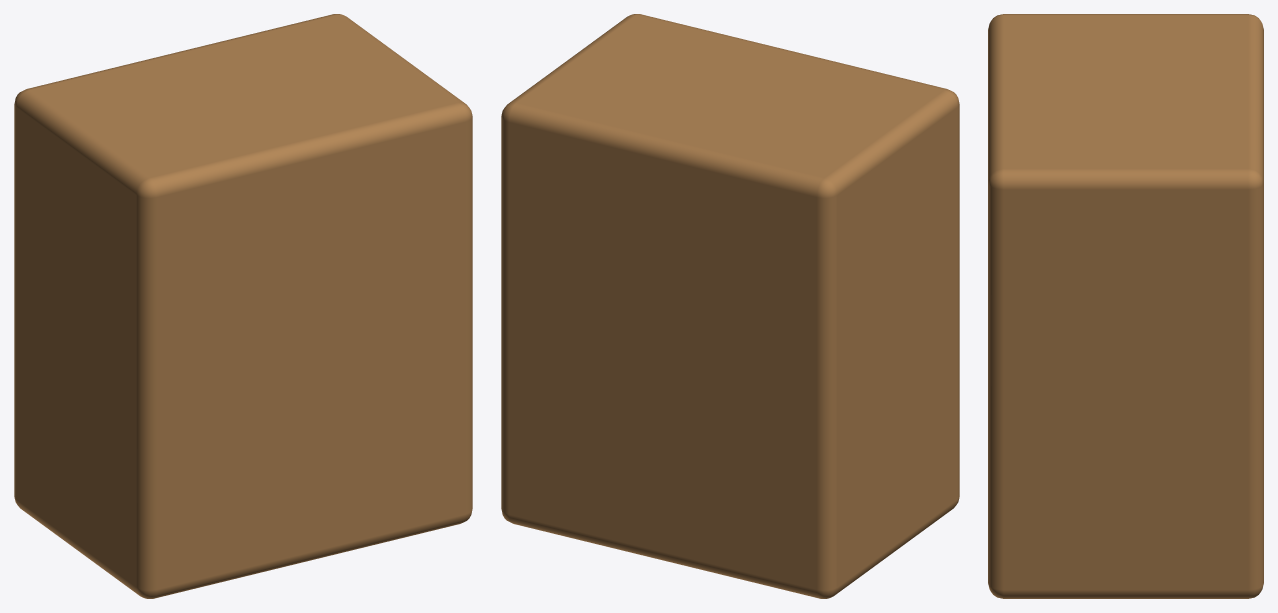
3 renders of one model, left to right at view 1: azimuth 30°, elevation 25°; view 2: azimuth 150°, elevation 25°; view 3: azimuth 270°, elevation 25°, orthographic. The views are drawn at different scales.
Visible parts, largest first — view 1: chapter-2; view 2: chapter-2; view 3: chapter-2.
Part boxes in pixels (x1,y1,x2,y2): chapter-2: (14, 14, 472, 598); chapter-2: (501, 14, 959, 598); chapter-2: (988, 14, 1263, 598).
Bounding box in the file's own units: 1.67 × 2 × 1.17.
